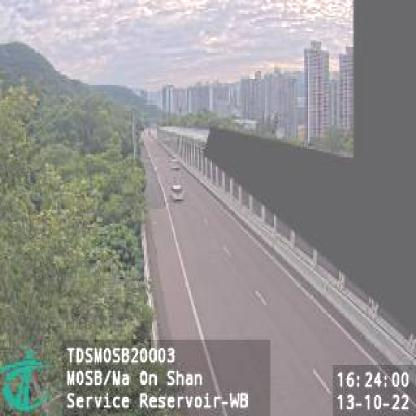Car: (170, 183, 186, 203)
